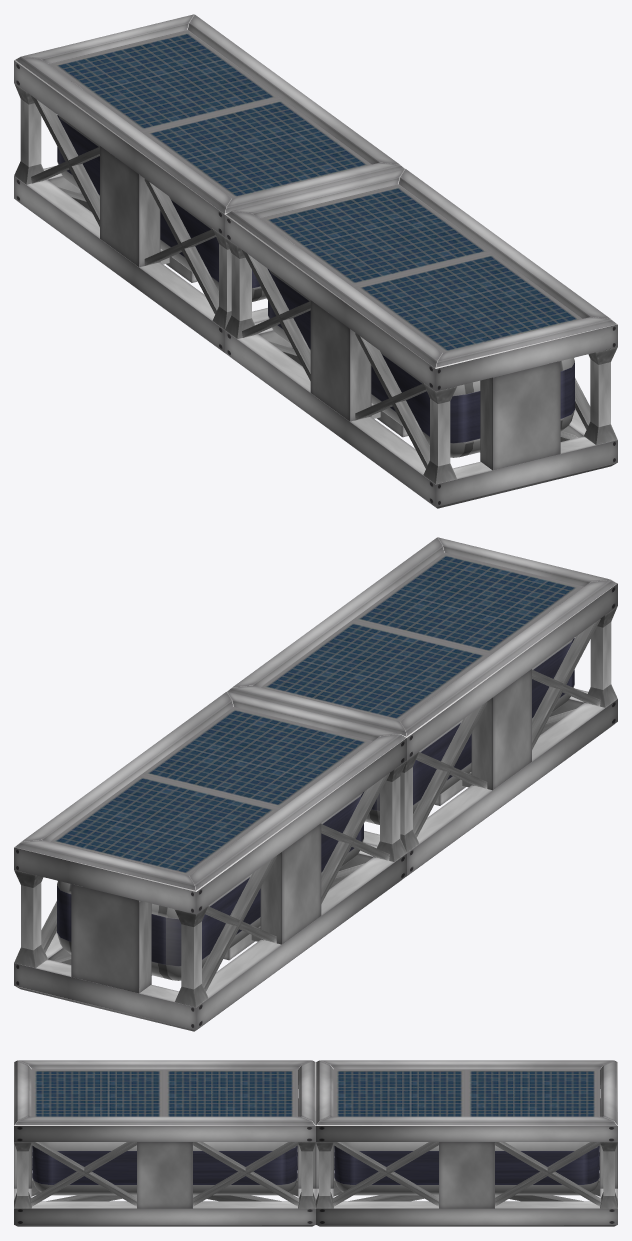
The model's file is ChassisSlim2u.FBX.
The picture shows the model from 3 angles, top to bottom: view 1: azimuth 30°, elevation 25°; view 2: azimuth 150°, elevation 25°; view 3: azimuth 270°, elevation 25°; orthographic projection. The views are drawn at different scales.
Parts seen in each view (by area): view 1: Box002, Box001, Frame003, Frame001, Frame004, Frame002, SideHardpoint006, StorageTank002, SideHardpoint005, SideHardpoint001, StorageTank001, Pilar014 (+12 smaller); view 2: Box001, Box002, Frame001, Frame003, Frame002, Frame004, SideHardpoint004, StorageTank001, SideHardpoint001, SideHardpoint005, StorageTank002, Pilar001 (+12 smaller); view 3: Box001, Box002, Frame003, Frame001, StorageTank002, StorageTank001, Frame004, Frame002, SideHardpoint003, SideHardpoint007, Bracing029, Bracing007 (+18 smaller).
Boxes of the visible parts, left/top/right/bottom form: Box002: left=259, top=184, right=582, bottom=352; Box001: left=48, top=30, right=371, bottom=198; Frame003: left=225, top=168, right=617, bottom=391; Frame001: left=14, top=14, right=404, bottom=236; Frame004: left=225, top=320, right=617, bottom=508; Frame002: left=14, top=166, right=268, bottom=353; SideHardpoint006: left=480, top=361, right=560, bottom=470; StorageTank002: left=268, top=269, right=574, bottom=457; SideHardpoint005: left=310, top=300, right=371, bottom=421; SideHardpoint001: left=100, top=146, right=160, bottom=267; StorageTank001: left=57, top=115, right=267, bottom=301; Pilar014: left=423, top=383, right=456, bottom=484; Box001: left=49, top=707, right=372, bottom=875; Box002: left=260, top=552, right=583, bottom=721; Frame001: left=14, top=691, right=406, bottom=914; Frame003: left=227, top=537, right=617, bottom=759; Frame002: left=14, top=843, right=406, bottom=1031; Frame004: left=363, top=689, right=617, bottom=876; SideHardpoint004: left=71, top=884, right=151, bottom=993; StorageTank001: left=57, top=792, right=363, bottom=980; SideHardpoint001: left=260, top=823, right=321, bottom=944; SideHardpoint005: left=471, top=669, right=531, bottom=790; StorageTank002: left=364, top=638, right=574, bottom=824; Pilar001: left=174, top=906, right=208, bottom=1007; Box001: left=333, top=1069, right=599, bottom=1116; Box002: left=31, top=1069, right=297, bottom=1116; Frame003: left=14, top=1060, right=315, bottom=1141; Frame001: left=316, top=1060, right=617, bottom=1141; StorageTank002: left=32, top=1142, right=297, bottom=1195; StorageTank001: left=334, top=1142, right=599, bottom=1195; Frame004: left=14, top=1151, right=315, bottom=1226; Frame002: left=316, top=1151, right=617, bottom=1226; SideHardpoint003: left=439, top=1142, right=494, bottom=1208; SideHardpoint007: left=137, top=1142, right=192, bottom=1208; Bracing029: left=193, top=1142, right=299, bottom=1206; Bracing007: left=332, top=1142, right=438, bottom=1206.
Size of what is drawn, in the model's own units: 0.4226 by 0.326 by 1.69.
